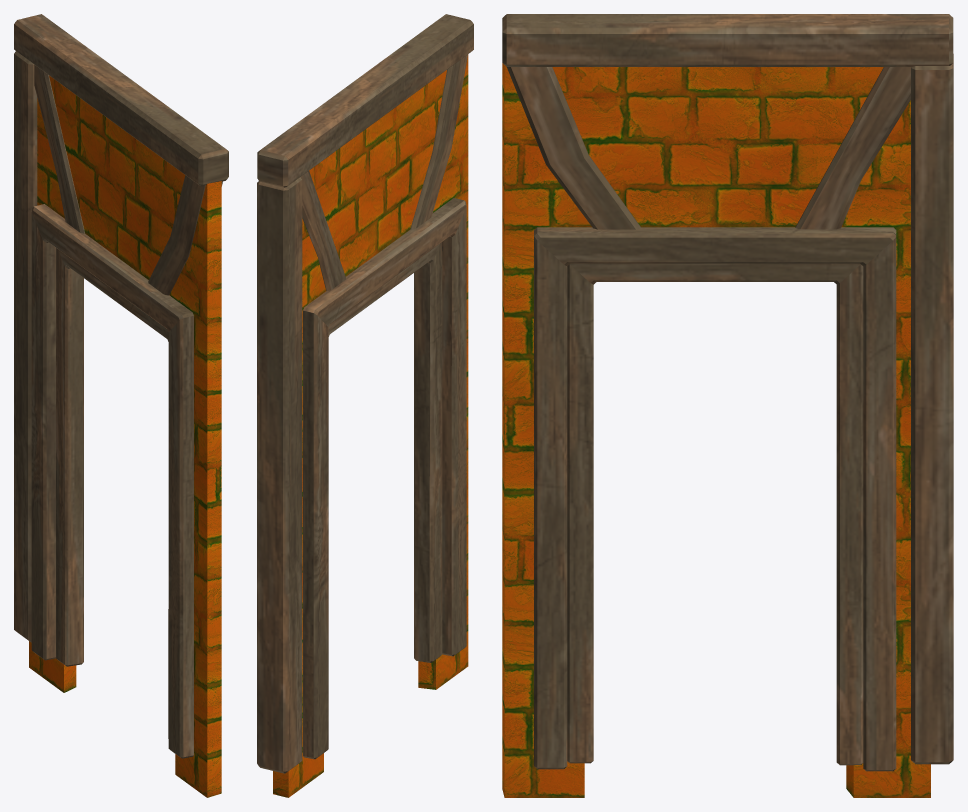
The model's file is SM_wall_18.fbx.
3 views of the same model, side by side, from view 1: azimuth 30°, elevation 25°; view 2: azimuth 150°, elevation 25°; view 3: azimuth 270°, elevation 25° (orthographic). The views are drawn at different scales.
Visible parts, largest first — view 1: SM_wall_18_LOD0; view 2: SM_wall_18_LOD0; view 3: SM_wall_18_LOD0.
Boxes of the visible parts, x1,y1,x2,y2 form: SM_wall_18_LOD0: (14, 14, 228, 797); SM_wall_18_LOD0: (257, 14, 473, 797); SM_wall_18_LOD0: (502, 14, 953, 797).
Size of the model in its own units: 26.73 by 212 by 400.
Materials: 2 (2 with a texture image).
